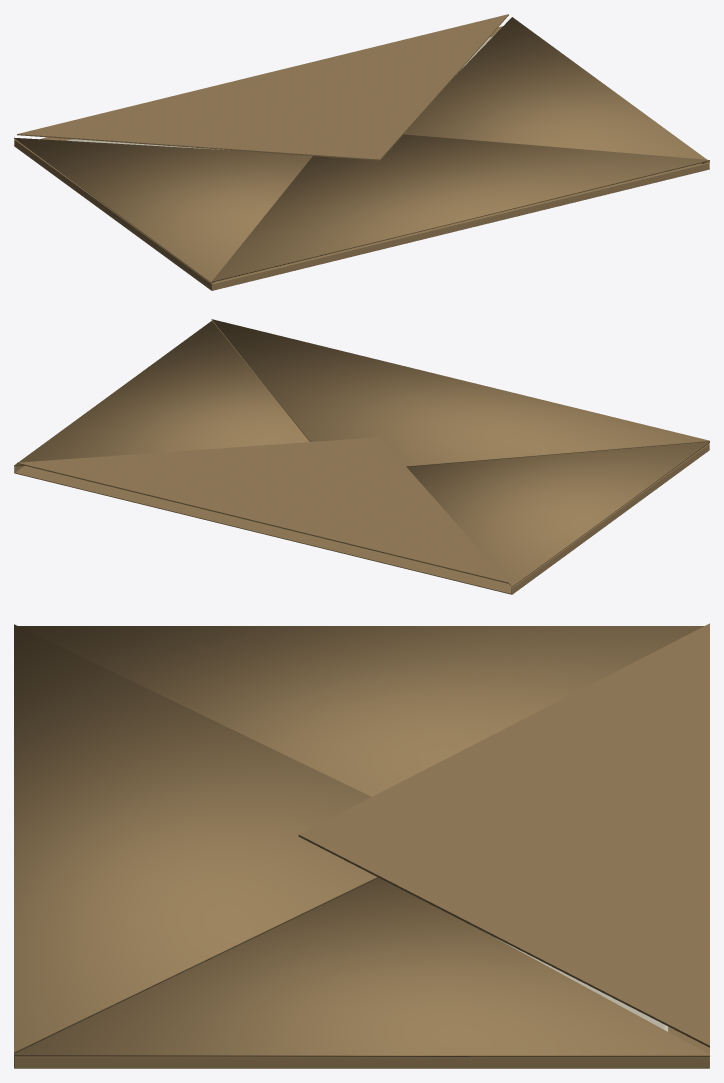
File: D05_Envelope.fbx
The picture shows the model from 3 angles, top to bottom: view 1: azimuth 30°, elevation 25°; view 2: azimuth 150°, elevation 25°; view 3: azimuth 270°, elevation 25°; orthographic projection. The views are drawn at different scales.
Visible parts, largest first — view 1: EnvelopeBody_Mesh, FlapPivot_Mesh; view 2: EnvelopeBody_Mesh, FlapPivot_Mesh; view 3: EnvelopeBody_Mesh, FlapPivot_Mesh.
Boxes of the visible parts, bbox=[...] form: EnvelopeBody_Mesh: bbox=[14, 17, 709, 290]; FlapPivot_Mesh: bbox=[17, 14, 508, 160]; EnvelopeBody_Mesh: bbox=[14, 319, 709, 594]; FlapPivot_Mesh: bbox=[17, 437, 508, 583]; EnvelopeBody_Mesh: bbox=[14, 624, 709, 1068]; FlapPivot_Mesh: bbox=[298, 623, 709, 1047].
Bounding box in the file's own units: 0.16 × 0.00356 × 0.11.
